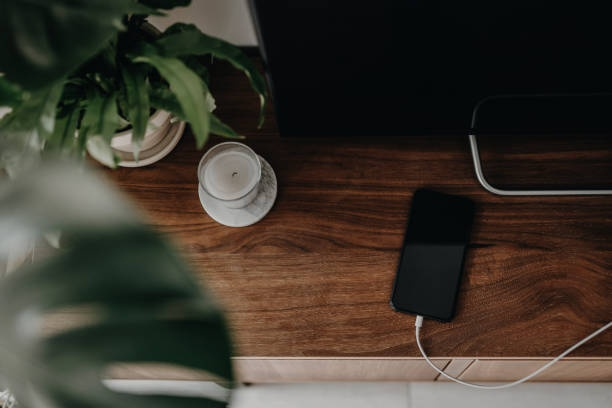phone: (392, 185, 475, 324)
